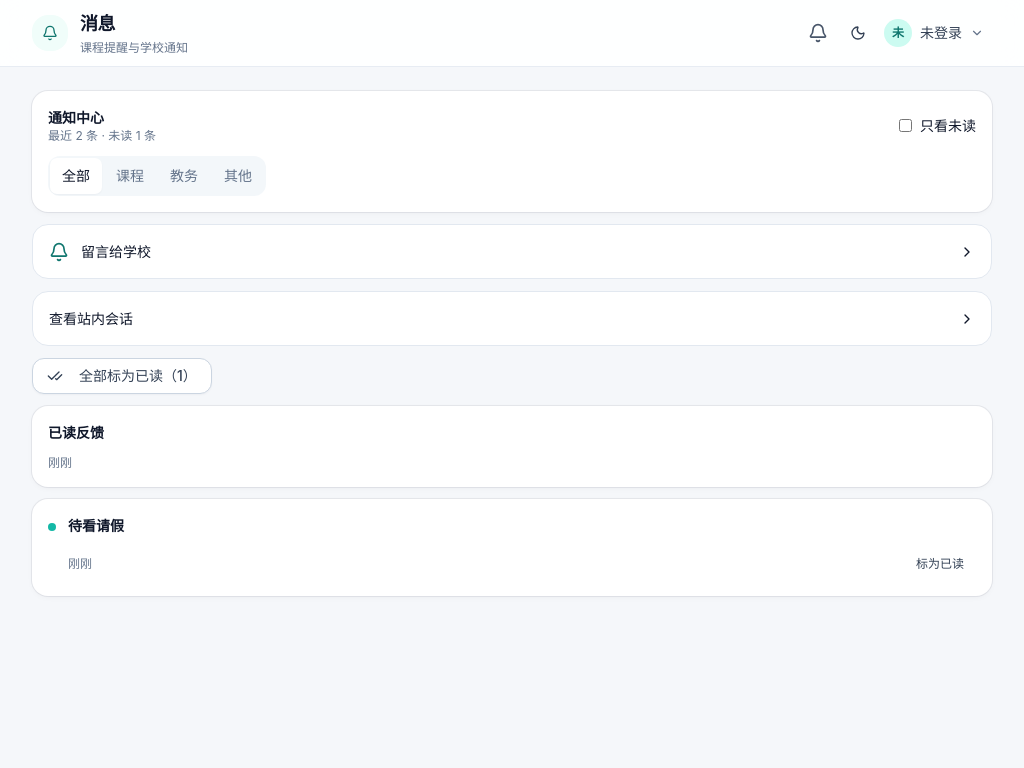
Test: 通知按类别与未读组合筛选，空筛选不误报没有历史消息
Expected: the heading "已读反馈" is shown, [48,424,104,441]
Click the button "课程".
click(130, 176)  # box [104,158,156,194]
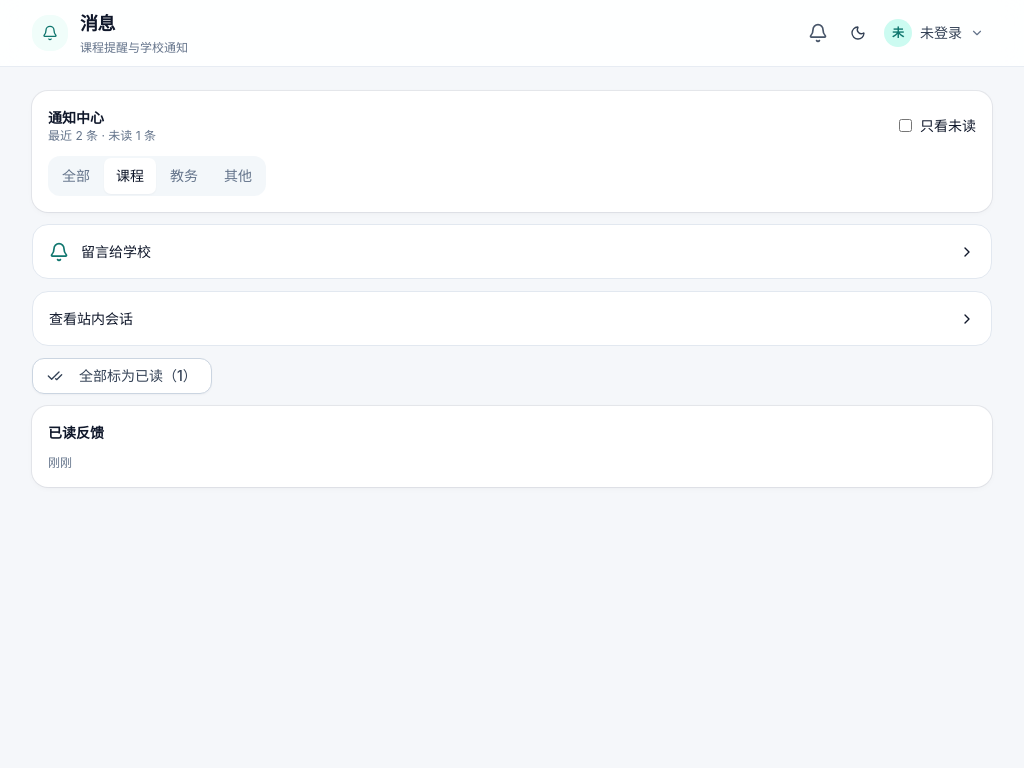
Result: the heading "待看请假" is gone
Click the checkbox labelled "只看未读".
click(906, 126)  # box [899,119,912,132]
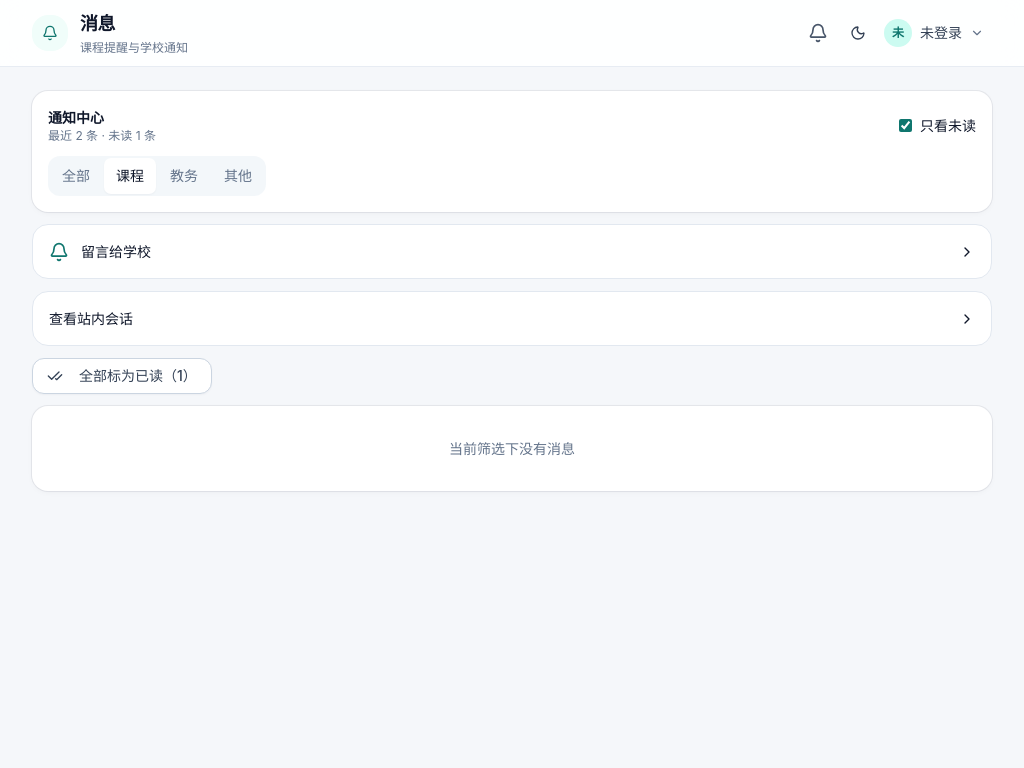
Result: the text "当前筛选下没有消息" is shown at [32,406,992,491]
Click the button "教务".
click(184, 176)  # box [158,158,210,194]
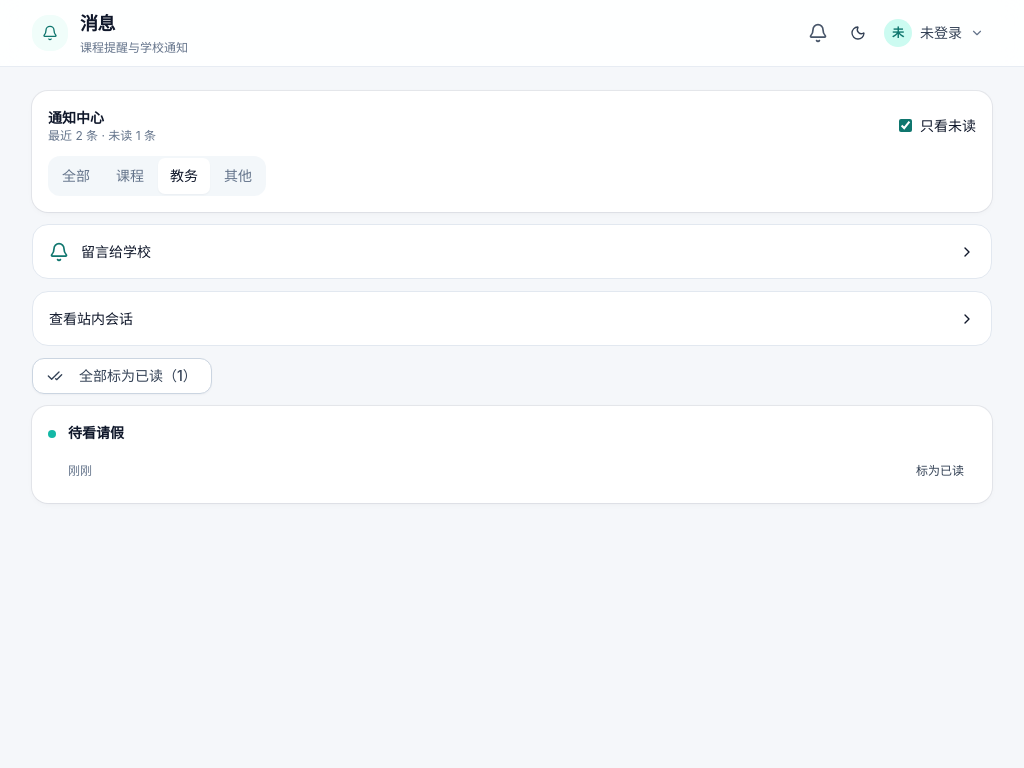
Result: the heading "待看请假" is shown at [68,424,124,441]
